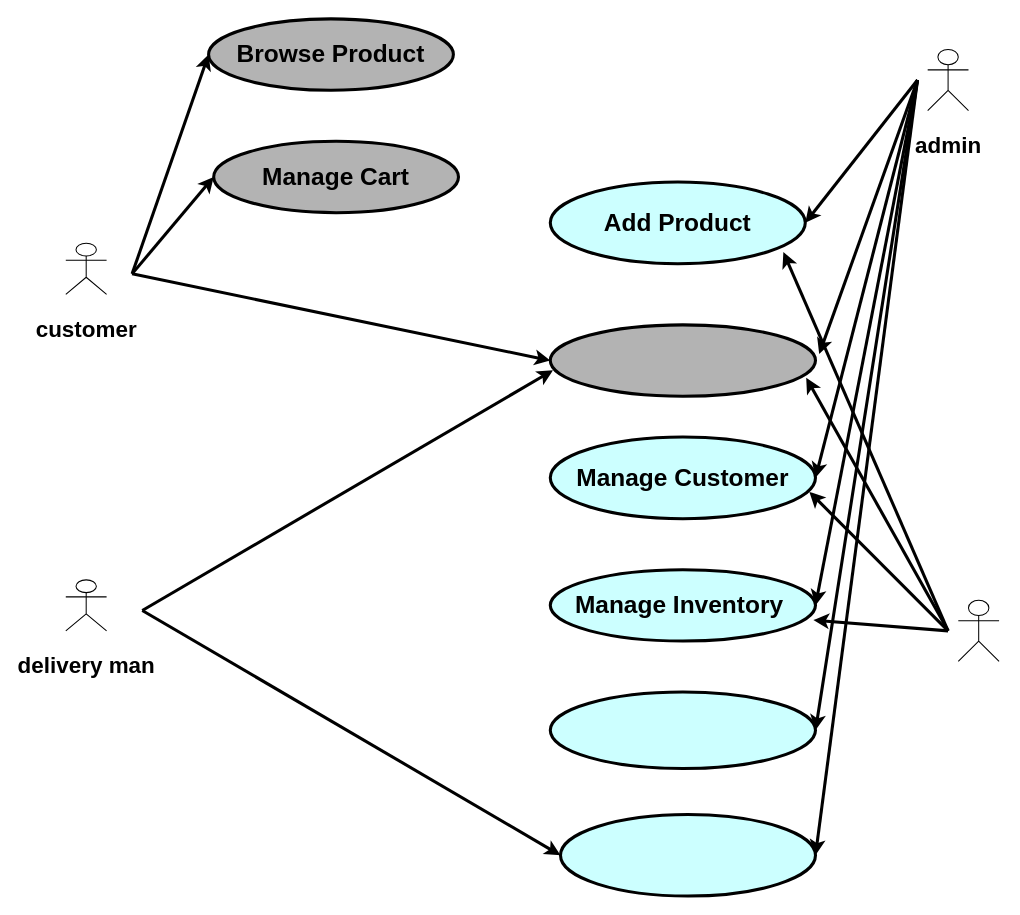
This 1020x915 diagram has some shape labels left out. The shapes that lost their labels are listed below. From the top down, each one's centre as x and y in pixels, then its label:
At point (682, 360): "Manage Order".
At point (978, 630): "staff".
At point (682, 730): "Hire Member".
At point (687, 854): "Delivered Order".
